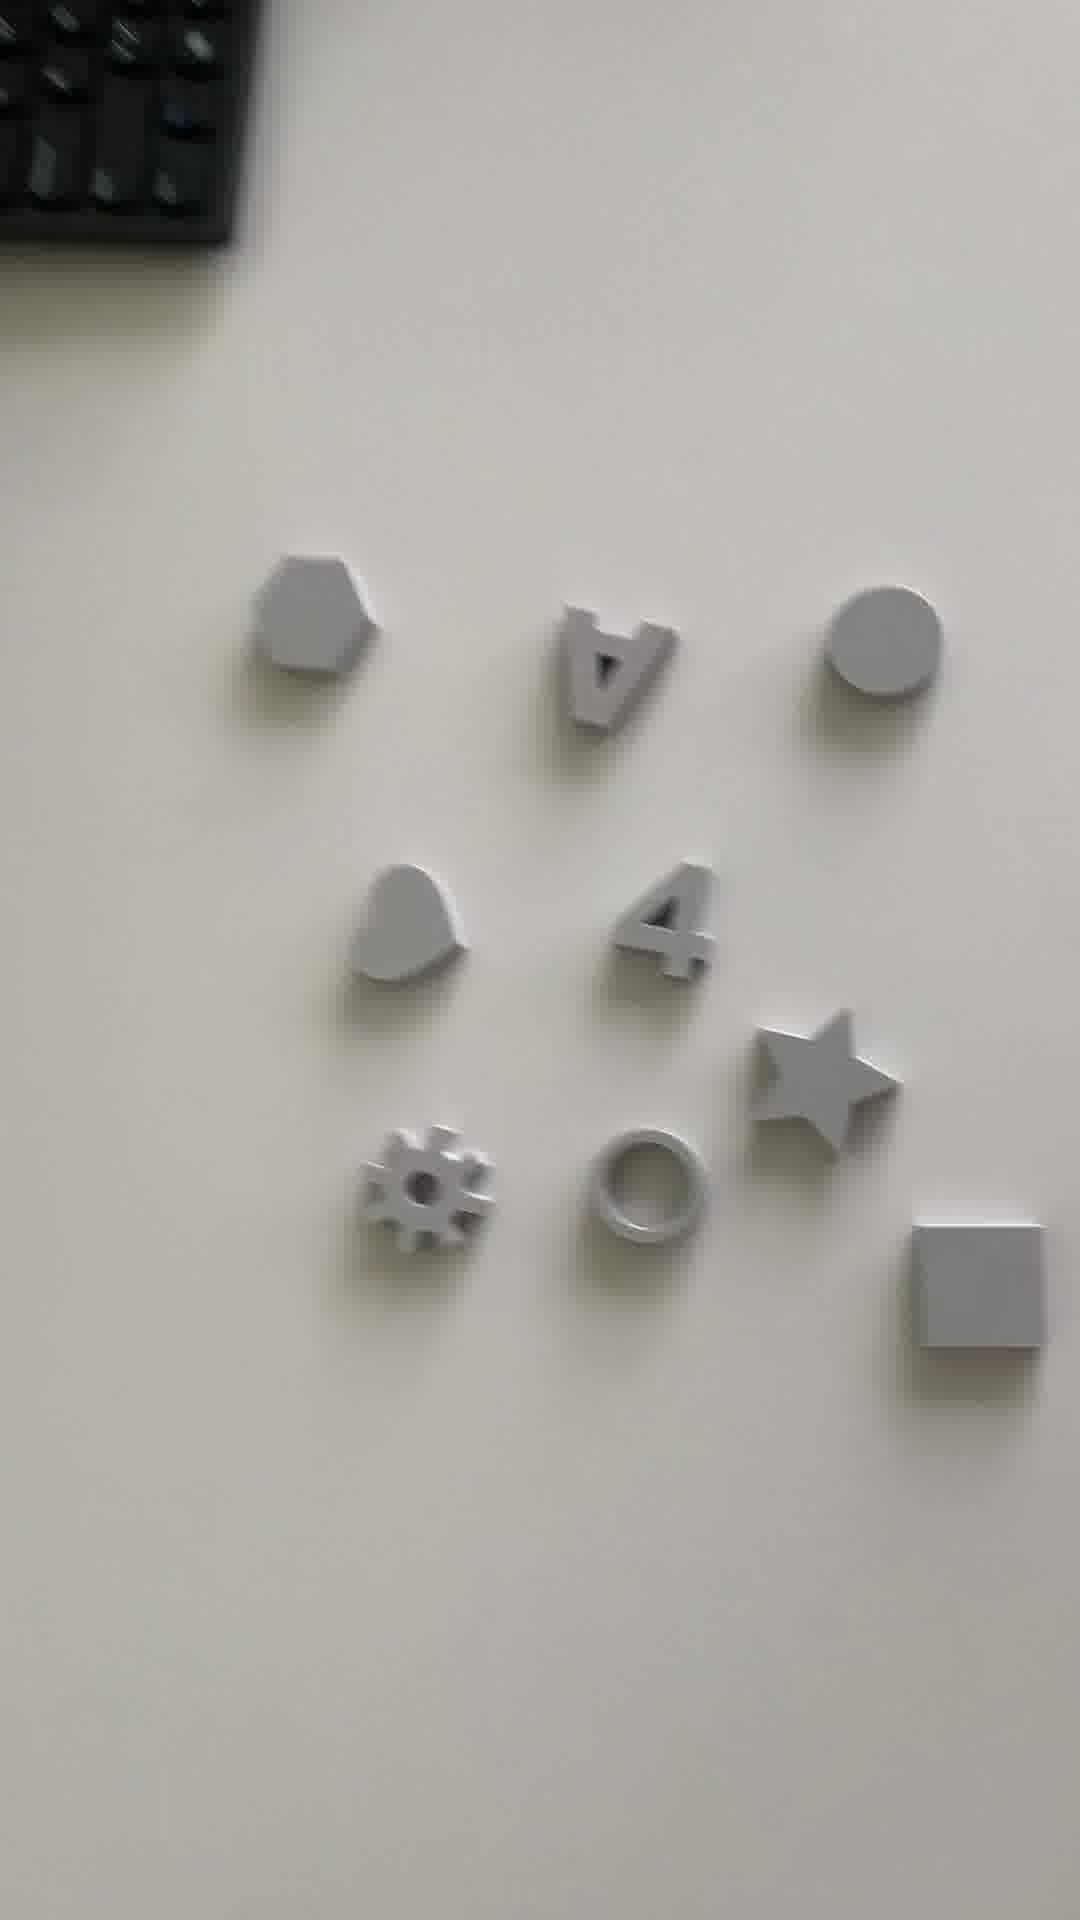Gray A-letter: (553, 604, 679, 744)
Gray circle: (812, 583, 939, 716)
Gray four: (612, 844, 720, 992)
Gray gear: (363, 1122, 484, 1255)
Gray heart: (345, 858, 463, 1000)
Gray hexagon: (243, 550, 380, 694)
Gray ring: (592, 1126, 702, 1254)
Gray square: (894, 1211, 1040, 1371)
Gray star: (741, 1004, 898, 1171)
